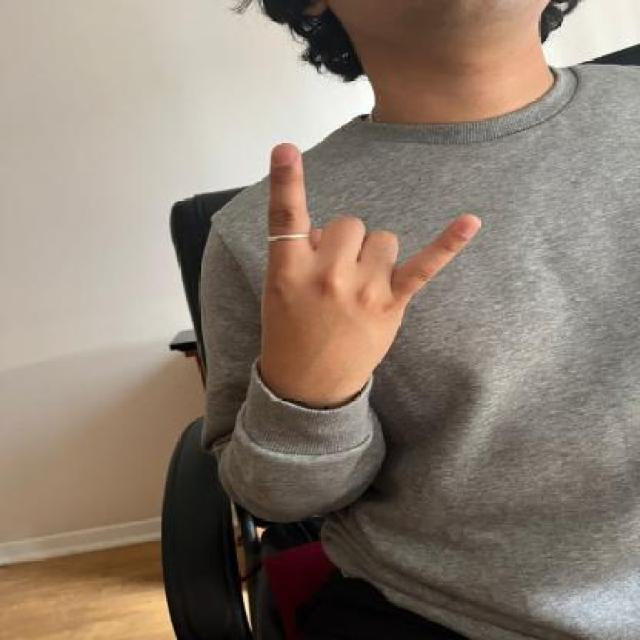U: (258, 136, 479, 387)
